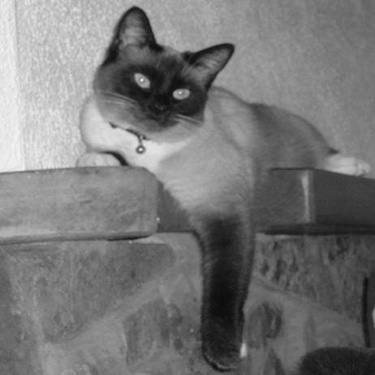cat: (64, 1, 373, 371)
